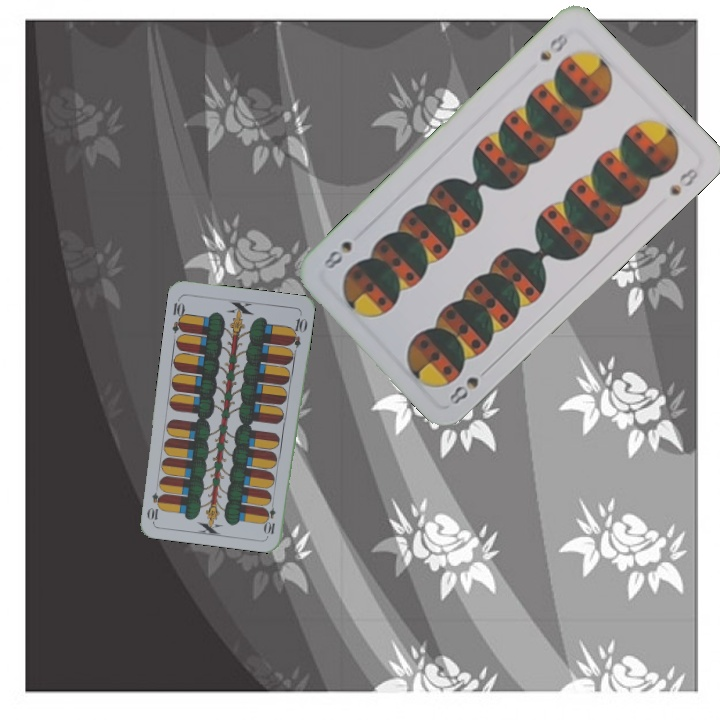E10: (168, 294, 188, 335), (262, 496, 278, 537)
S8: (445, 362, 494, 408), (535, 28, 571, 63)
